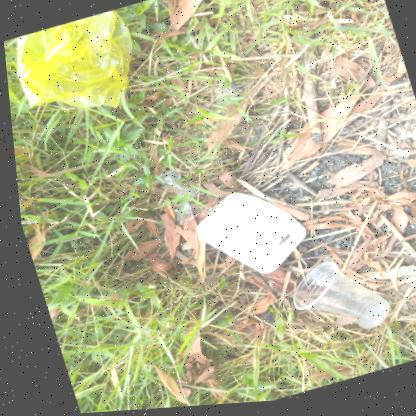Paper: (190, 195, 300, 276)
Plastic: (14, 11, 130, 108), (285, 265, 382, 332), (154, 169, 191, 202), (165, 203, 194, 226)
